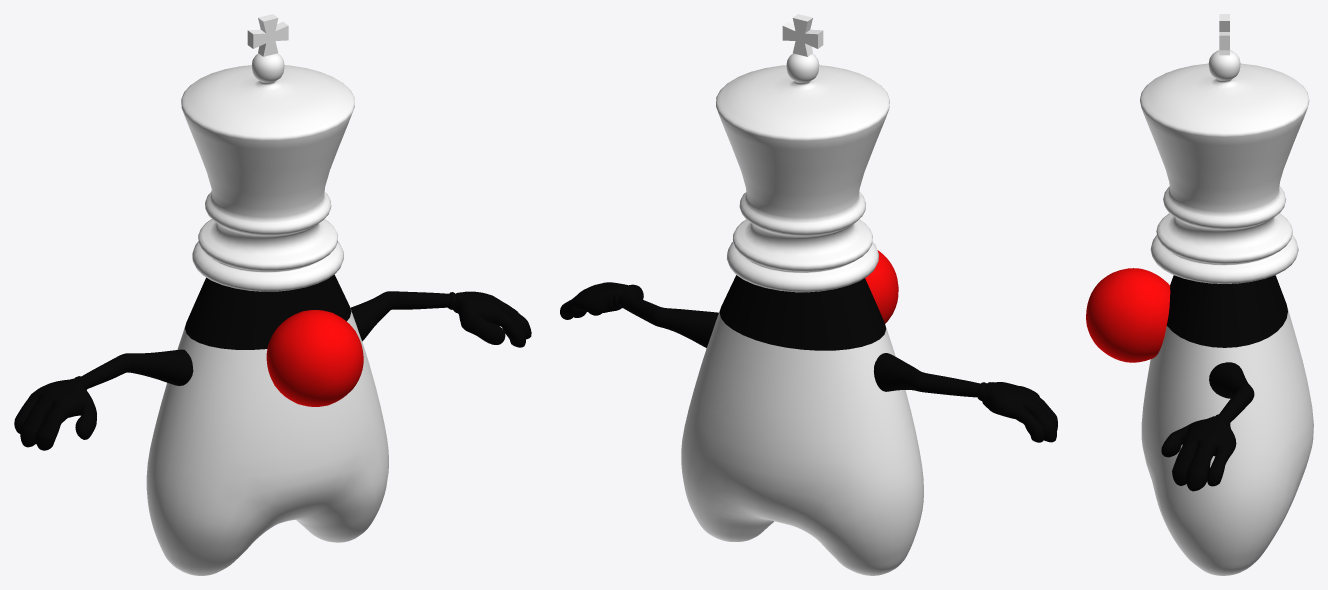
Rendered from king.fbx.
3 views of the same model, side by side, from view 1: azimuth 30°, elevation 25°; view 2: azimuth 150°, elevation 25°; view 3: azimuth 270°, elevation 25° (orthographic). The views are drawn at different scales.
Parts seen in each view (by area): view 1: king; view 2: king; view 3: king.
Boxes of the visible parts, bbox=[...] form: king: bbox=[14, 14, 531, 575]; king: bbox=[560, 14, 1057, 575]; king: bbox=[1086, 14, 1313, 575].
Size of the model in its own units: 2520 by 2598 by 1030.
